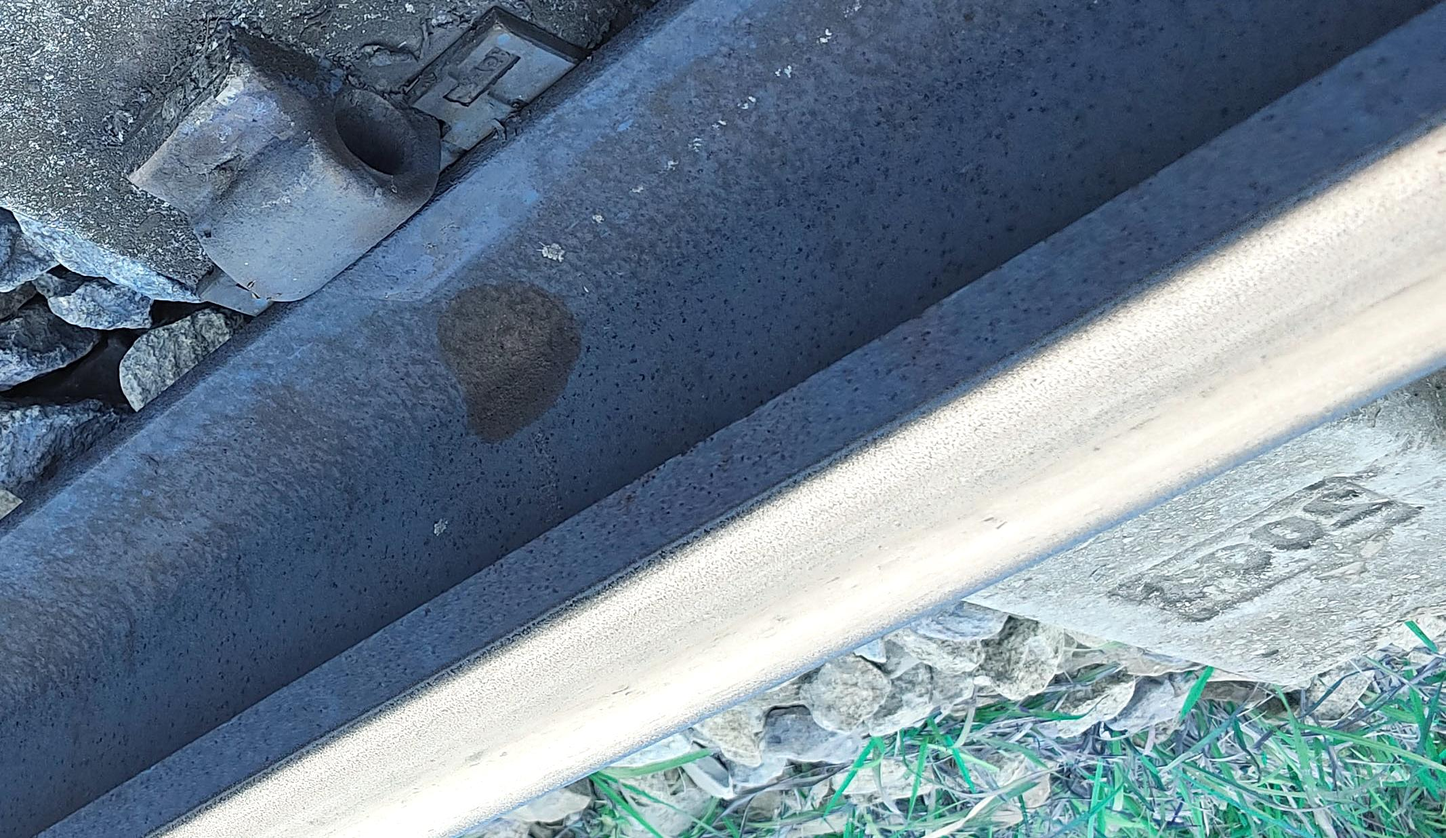loss: (112, 36, 460, 326)
